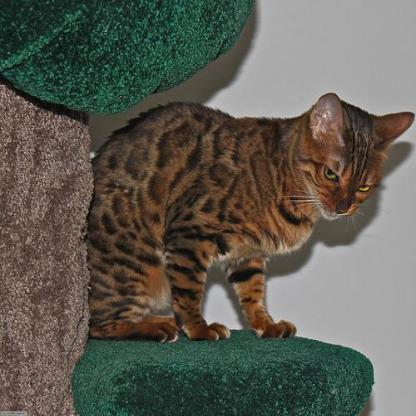cat: (86, 92, 414, 346)
